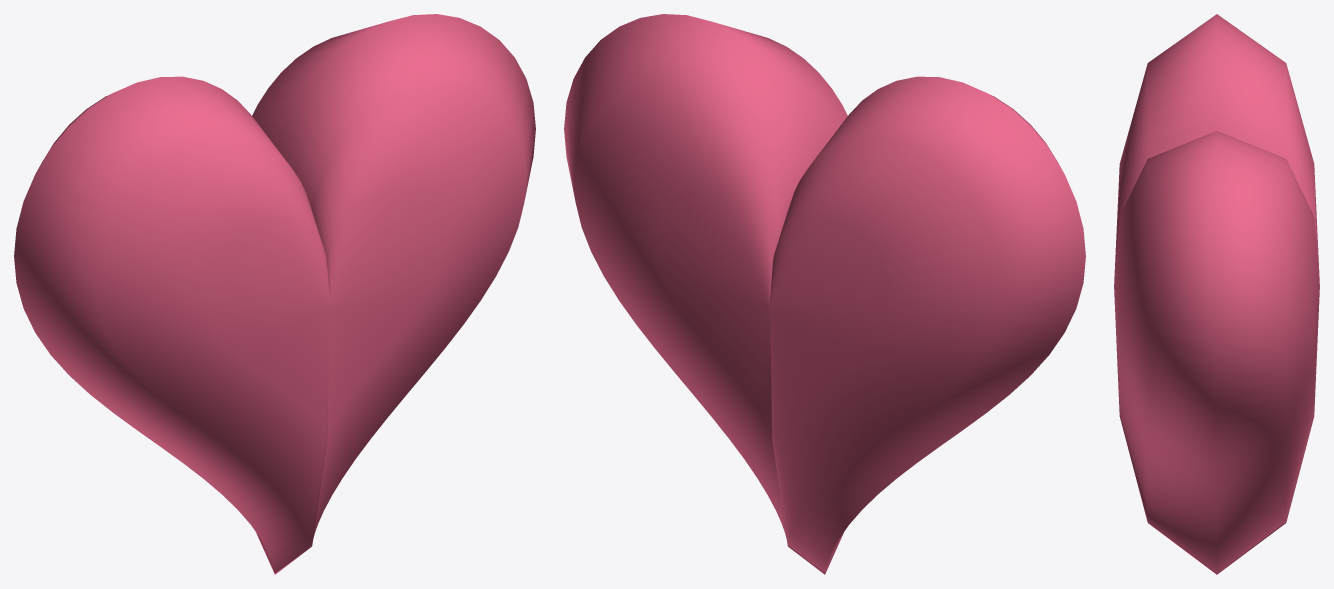
Rendered from heart.glb.
3 views of the same model, side by side, from view 1: azimuth 30°, elevation 25°; view 2: azimuth 150°, elevation 25°; view 3: azimuth 270°, elevation 25° (orthographic). The views are drawn at different scales.
Parts seen in each view (by area): view 1: heart_body; view 2: heart_body; view 3: heart_body.
Part boxes in pixels (x1=…): heart_body: x1=14, y1=14, x2=535, y2=574; heart_body: x1=564, y1=14, x2=1085, y2=574; heart_body: x1=1114, y1=14, x2=1319, y2=574.
Bounding box in the file's own units: 0.3 × 0.289 × 0.11.
